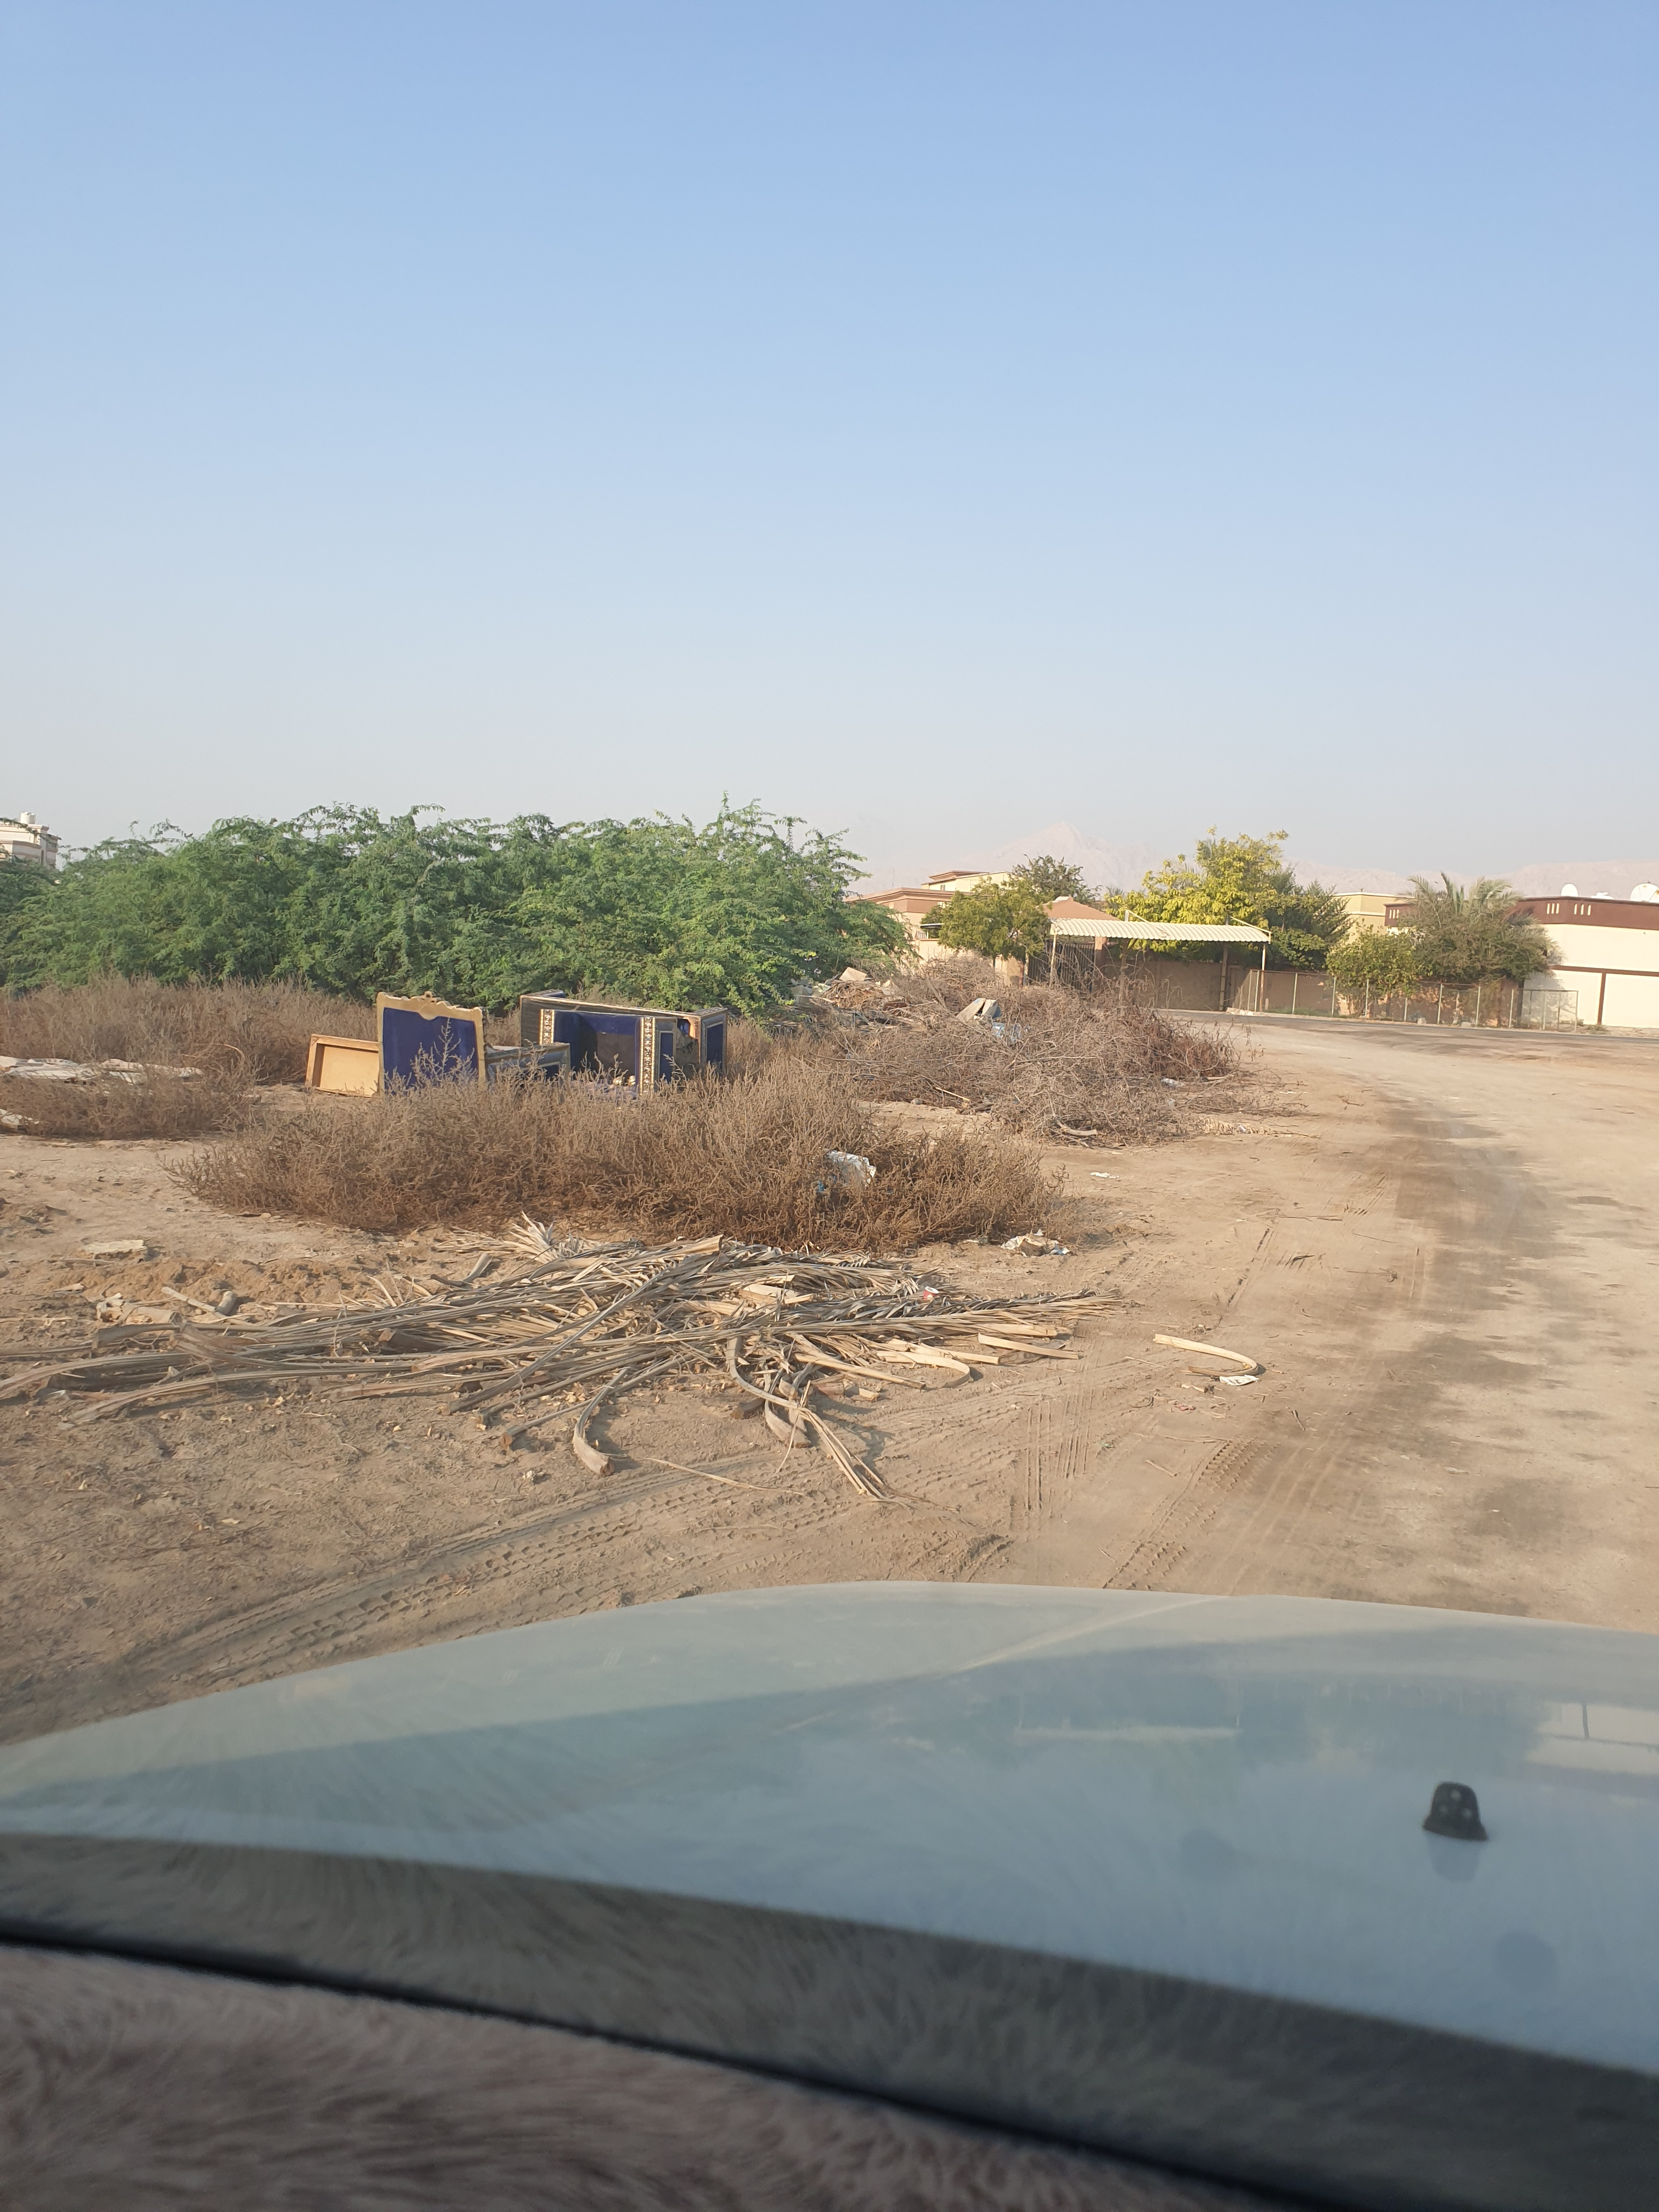fallen_trees: (202, 1197, 1208, 1512)
